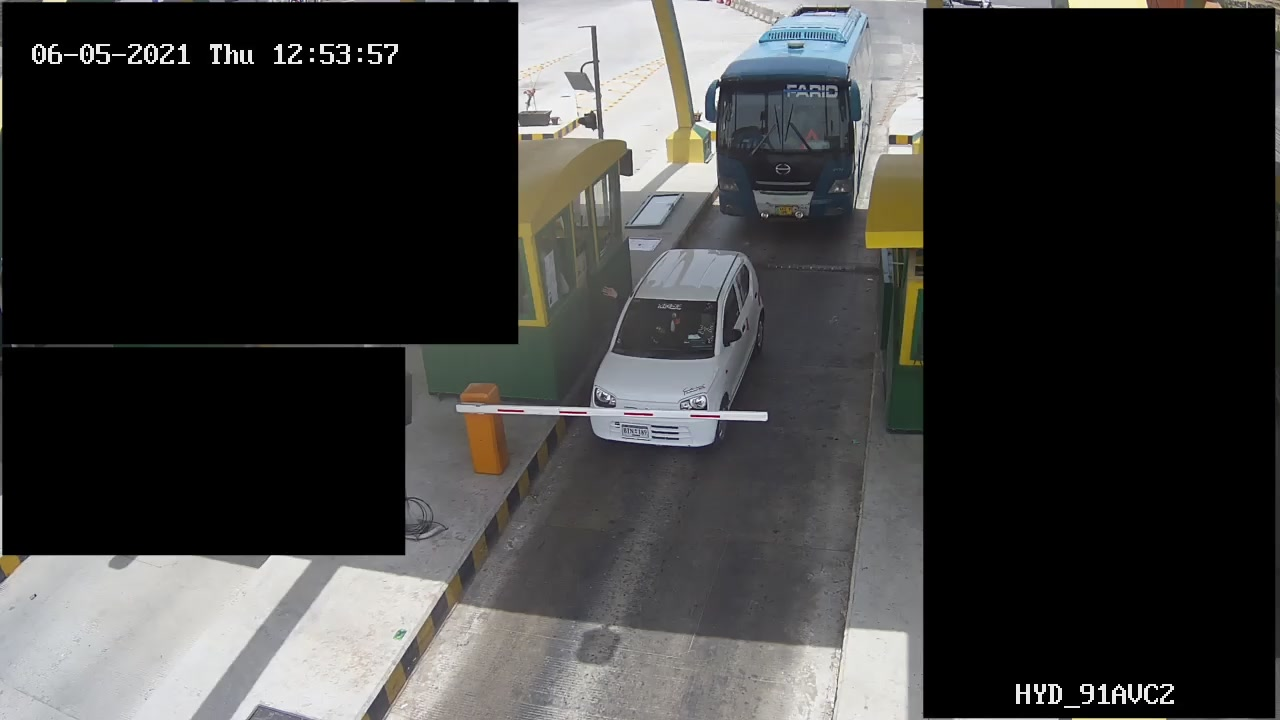F4: (708, 2, 879, 230)
